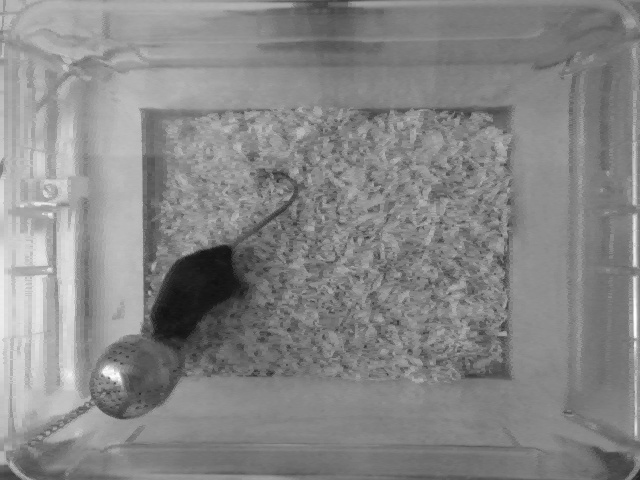mice: (147, 160, 318, 353)
